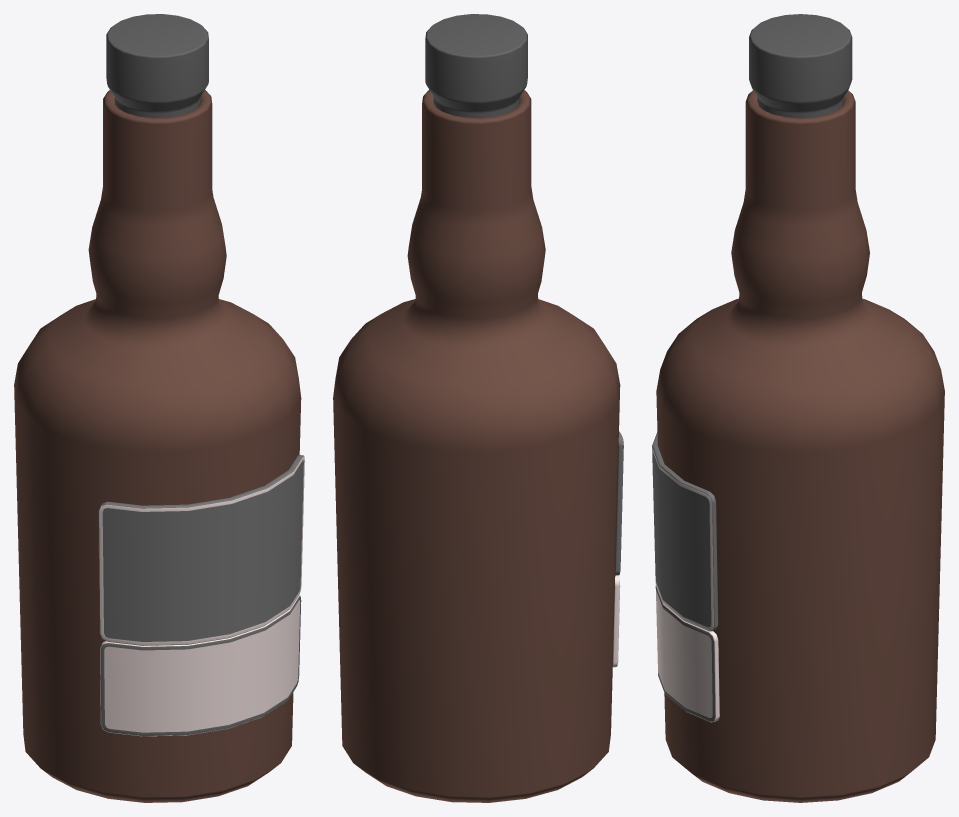
The model's file is Bottle_3.fbx.
The picture shows the model from 3 angles, left to right: view 1: azimuth 30°, elevation 25°; view 2: azimuth 150°, elevation 25°; view 3: azimuth 270°, elevation 25°; orthographic projection.
Visible parts, largest first — view 1: Bottle_3; view 2: Bottle_3; view 3: Bottle_3.
Boxes of the visible parts, bbox=[...] form: Bottle_3: bbox=[14, 14, 304, 802]; Bottle_3: bbox=[333, 14, 623, 802]; Bottle_3: bbox=[652, 14, 944, 802].
Bounding box in the file's own units: 15.13 × 41.48 × 15.36.
